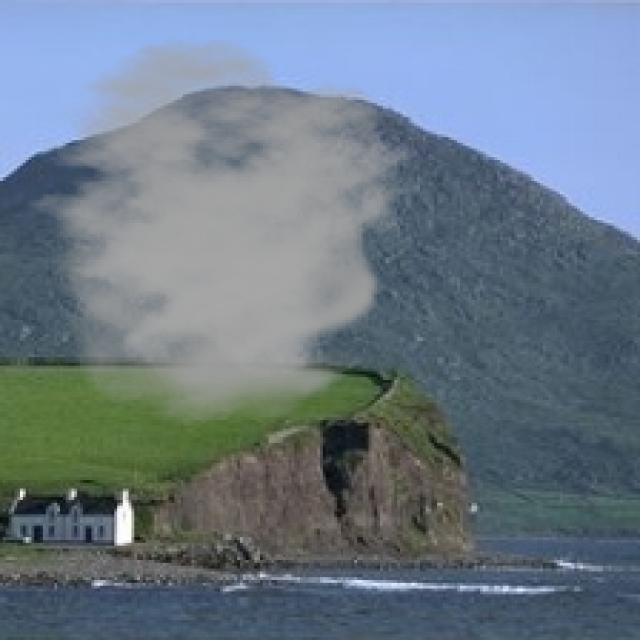Smoke: (8, 37, 414, 426)
